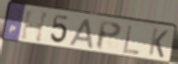5: (48, 14, 71, 45)
A: (68, 17, 95, 50)
H: (19, 9, 51, 44)
K: (146, 27, 170, 60)
L: (121, 23, 141, 57)
P: (95, 20, 123, 52)
